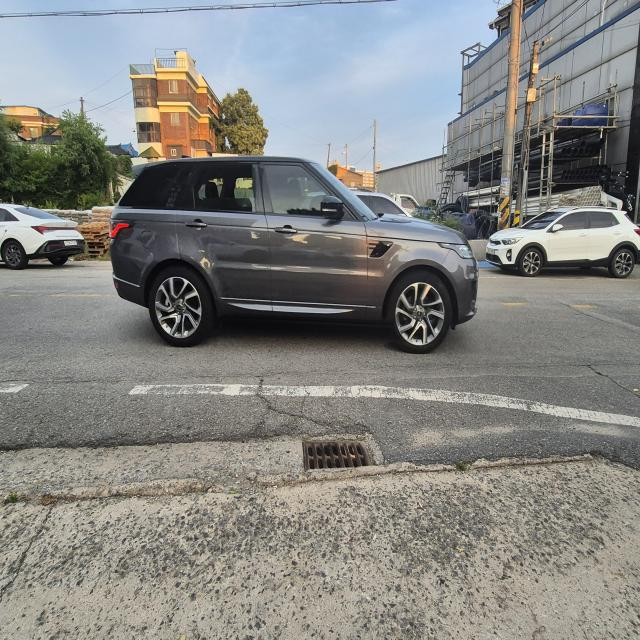car: (106, 147, 484, 358), (484, 206, 639, 277), (294, 178, 438, 244), (0, 203, 84, 270), (387, 186, 426, 209)
